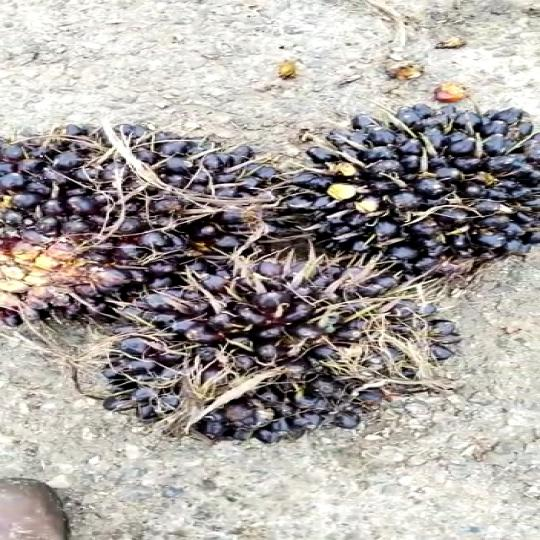mentah: (86, 257, 504, 454), (0, 106, 293, 334), (261, 87, 540, 276)
